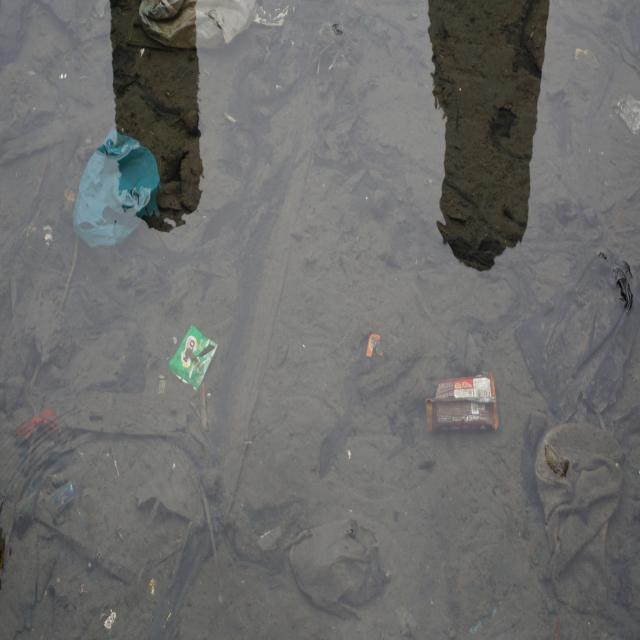Bungkus Makanan: (425, 368, 503, 439)
Bungkus Minuman: (169, 322, 220, 392)
Kantong Plastik: (75, 131, 164, 256)
